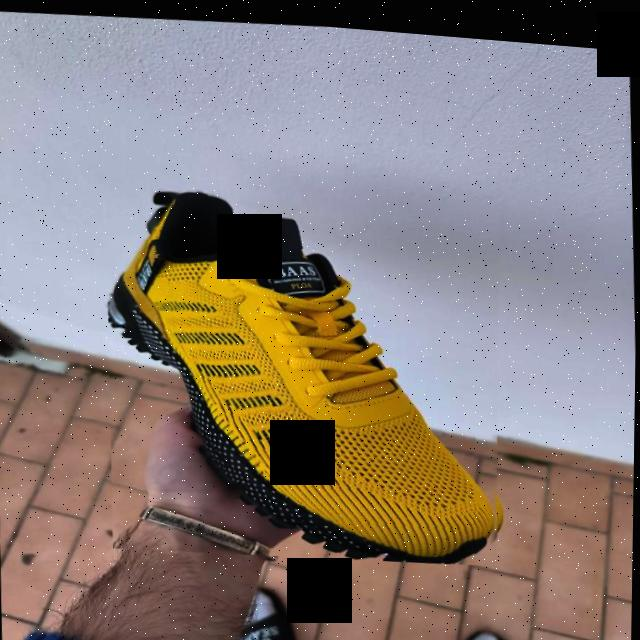shoe: (102, 169, 512, 571)
